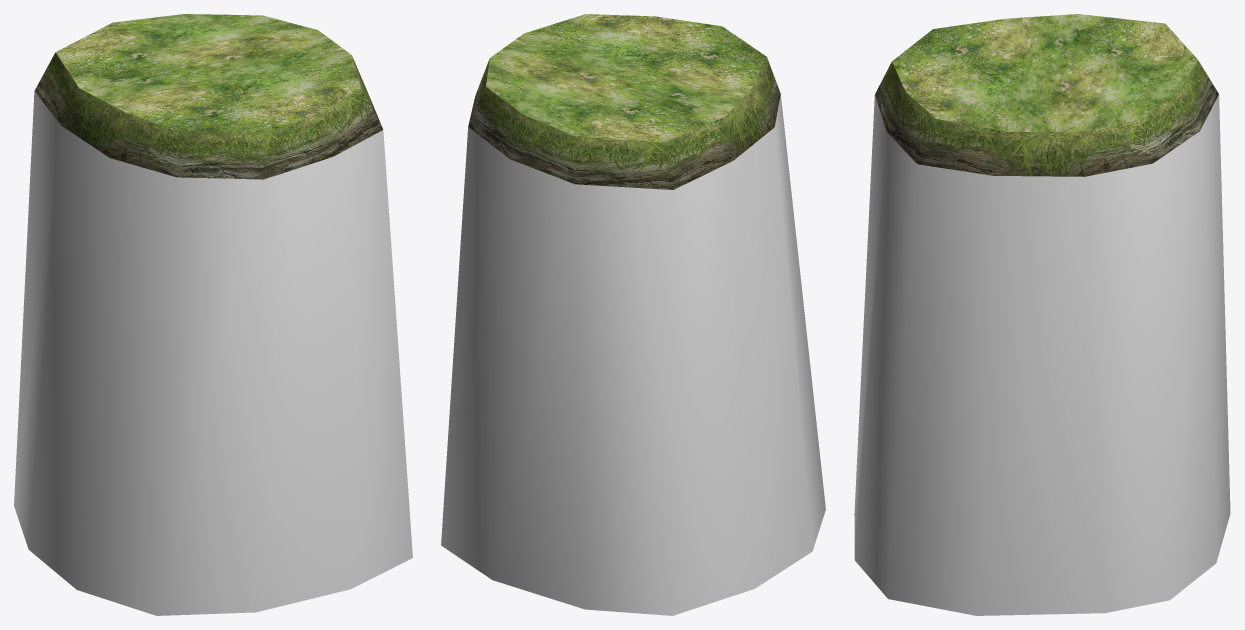
File: GrassPillar.gltf
The picture shows the model from 3 angles, left to right: view 1: azimuth 30°, elevation 25°; view 2: azimuth 150°, elevation 25°; view 3: azimuth 270°, elevation 25°; orthographic projection. The views are drawn at different scales.
Parts seen in each view (by area): view 1: GrassPillarColWall, GrassPillarMesh; view 2: GrassPillarColWall, GrassPillarMesh; view 3: GrassPillarColWall, GrassPillarMesh.
Boxes of the visible parts, box(x1,y1,x2,y2) form: GrassPillarColWall: box(14, 91, 412, 615); GrassPillarMesh: box(34, 14, 383, 179); GrassPillarColWall: box(441, 94, 825, 615); GrassPillarMesh: box(468, 14, 780, 189); GrassPillarColWall: box(854, 95, 1230, 615); GrassPillarMesh: box(875, 14, 1218, 176).
Size of the model in its own units: 7.23 by 9.95 by 7.27.
2 materials, 2 textured.
